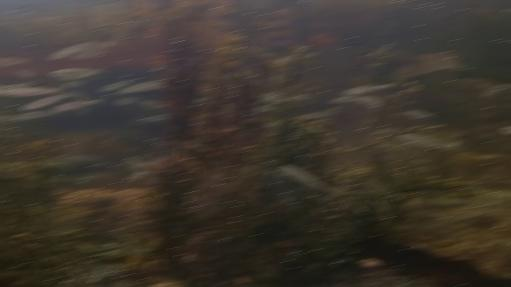Fish: (45, 155, 116, 183), (281, 165, 331, 191), (53, 92, 102, 113), (124, 157, 161, 183), (50, 39, 97, 59), (397, 134, 456, 149), (21, 93, 72, 110), (72, 40, 117, 59), (55, 154, 106, 168), (117, 79, 164, 93), (342, 84, 395, 95), (50, 69, 103, 79), (2, 87, 60, 96), (13, 111, 58, 121), (481, 84, 510, 98), (124, 158, 157, 170), (134, 79, 165, 91), (356, 96, 381, 110), (301, 108, 336, 118), (100, 80, 131, 91), (257, 91, 282, 103), (117, 83, 142, 94), (406, 110, 435, 118), (259, 91, 280, 102), (0, 58, 27, 66), (140, 100, 167, 108), (332, 95, 359, 103), (275, 55, 296, 65), (0, 84, 30, 91), (114, 97, 139, 105), (14, 68, 32, 78), (144, 115, 167, 122), (62, 80, 83, 87), (1, 115, 17, 124), (255, 105, 274, 112), (500, 126, 510, 133)
